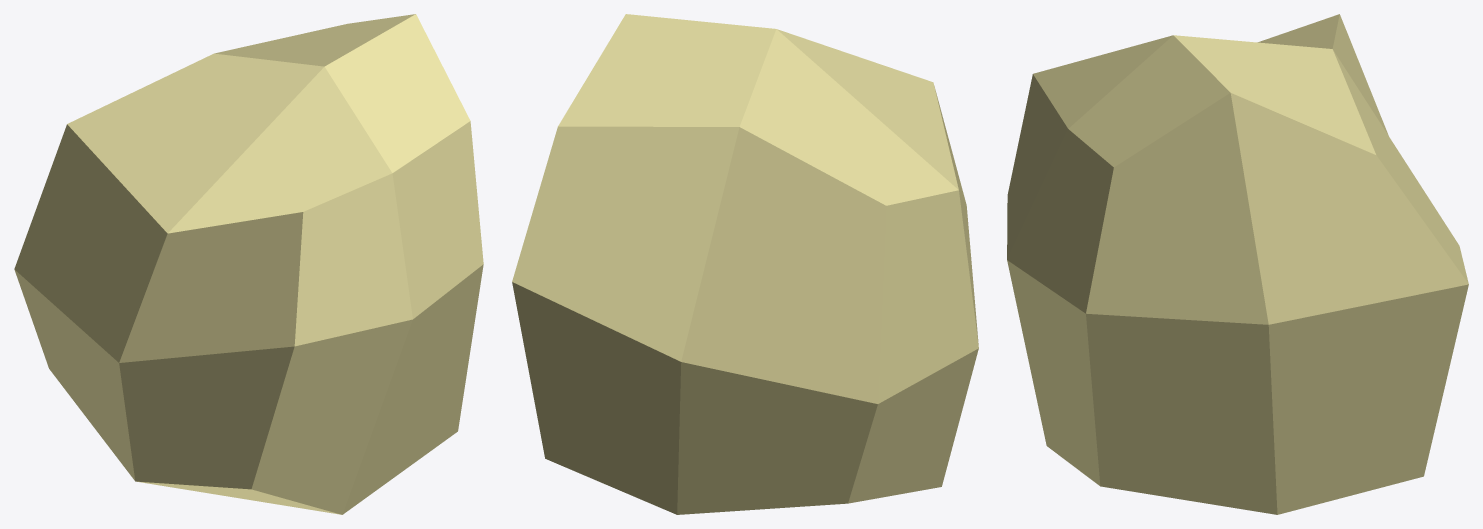
The model's file is PaperBall.fbx.
The picture shows the model from 3 angles, left to right: view 1: azimuth 30°, elevation 25°; view 2: azimuth 150°, elevation 25°; view 3: azimuth 270°, elevation 25°; orthographic projection. The views are drawn at different scales.
Visible parts, largest first — view 1: Cube.228; view 2: Cube.228; view 3: Cube.228.
Boxes of the visible parts, bbox=[...] form: Cube.228: bbox=[14, 14, 483, 514]; Cube.228: bbox=[512, 14, 978, 514]; Cube.228: bbox=[1007, 14, 1468, 514].
Size of the model in its own units: 128 by 136 by 126.
